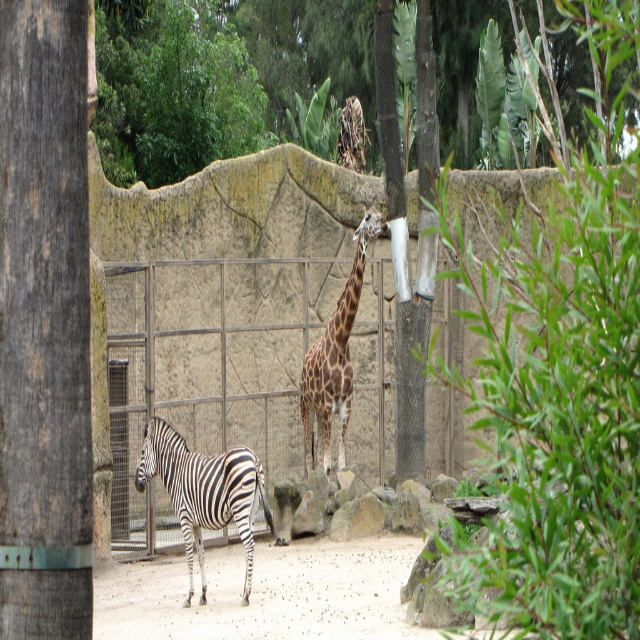Giraffe: (302, 196, 392, 481)
